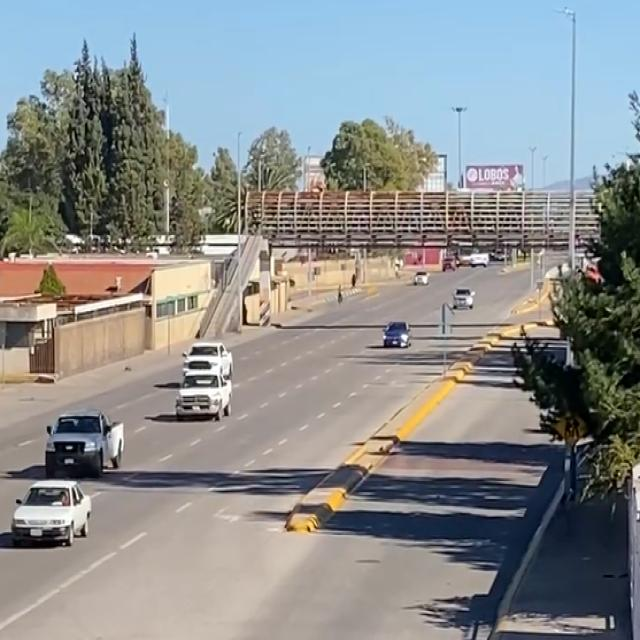Auto: (13, 482, 94, 548), (46, 416, 126, 478), (177, 375, 231, 420), (184, 343, 235, 380), (384, 322, 412, 348)
